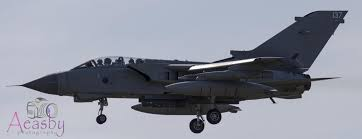fighter: (8, 5, 351, 135)
